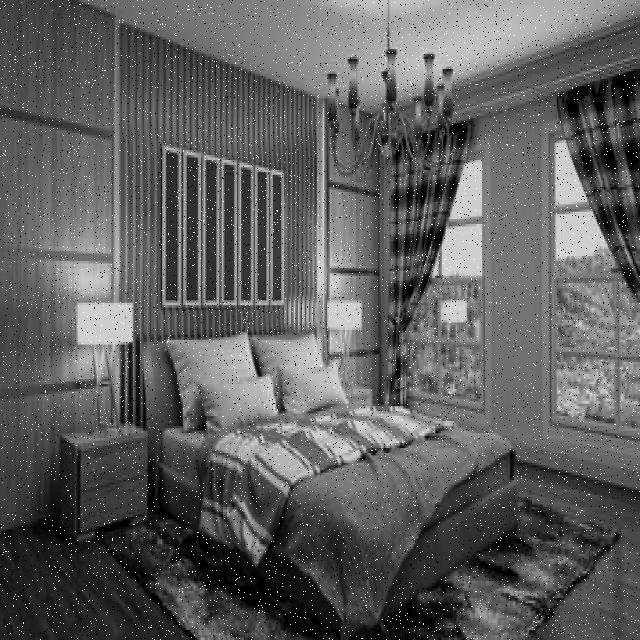bed: (144, 320, 522, 580)
